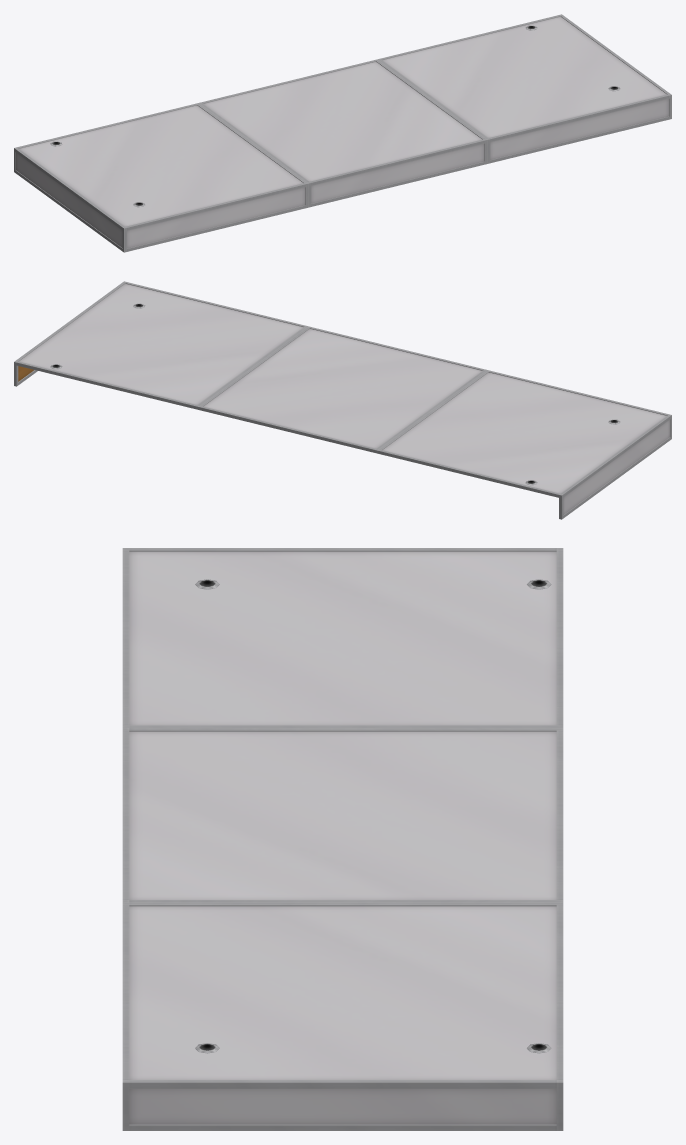
File: jsf_4P_s03_c04_t01_DX.fbx
3 renders of one model, top to bottom at view 1: azimuth 30°, elevation 25°; view 2: azimuth 150°, elevation 25°; view 3: azimuth 270°, elevation 25°, orthographic. The views are drawn at different scales.
Parts seen in each view (by area): view 1: jsf_4P_s03_c04_t01_DX; view 2: jsf_4P_s03_c04_t01_DX; view 3: jsf_4P_s03_c04_t01_DX.
Boxes of the visible parts, <box> form: jsf_4P_s03_c04_t01_DX: <box>14,14,671,252</box>; jsf_4P_s03_c04_t01_DX: <box>14,281,671,519</box>; jsf_4P_s03_c04_t01_DX: <box>122,548,563,1130</box>.
Bounding box in the file's own units: 298 × 12.99 × 104.
